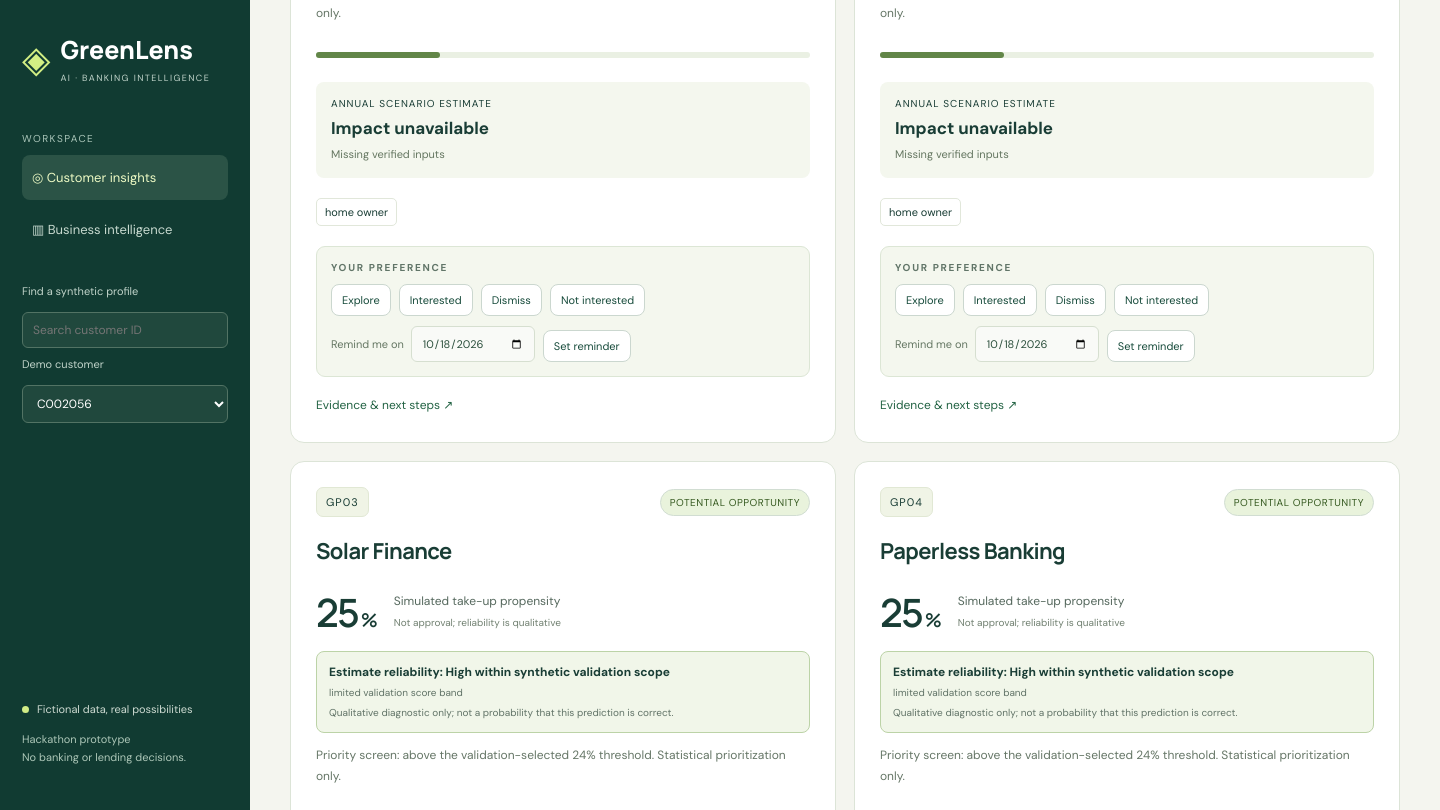
Customer dashboard › expands supporting evidence and next action
(page scrolled)
Click the 1st button "Evidence & next steps ↗": [385, 405] box x1=316 y1=393 x2=453 y2=417
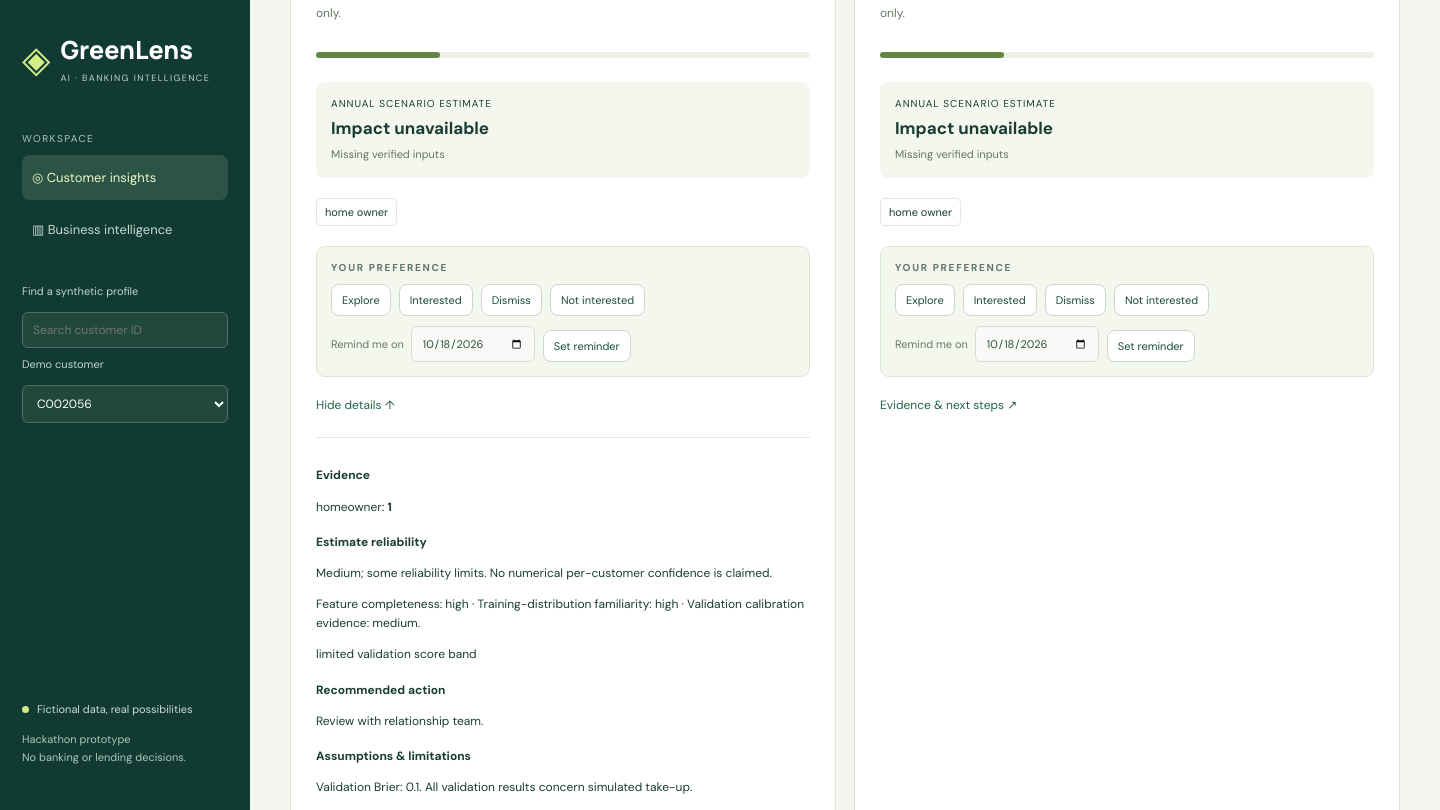
expect the text "Review with relationship team." is shown: met, box x1=316 y1=713 x2=483 y2=729
